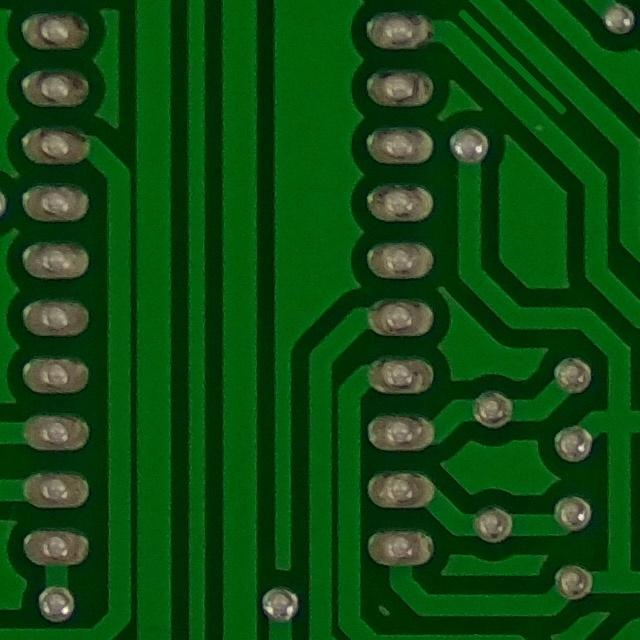spurious_copper: (450, 0, 573, 121)
